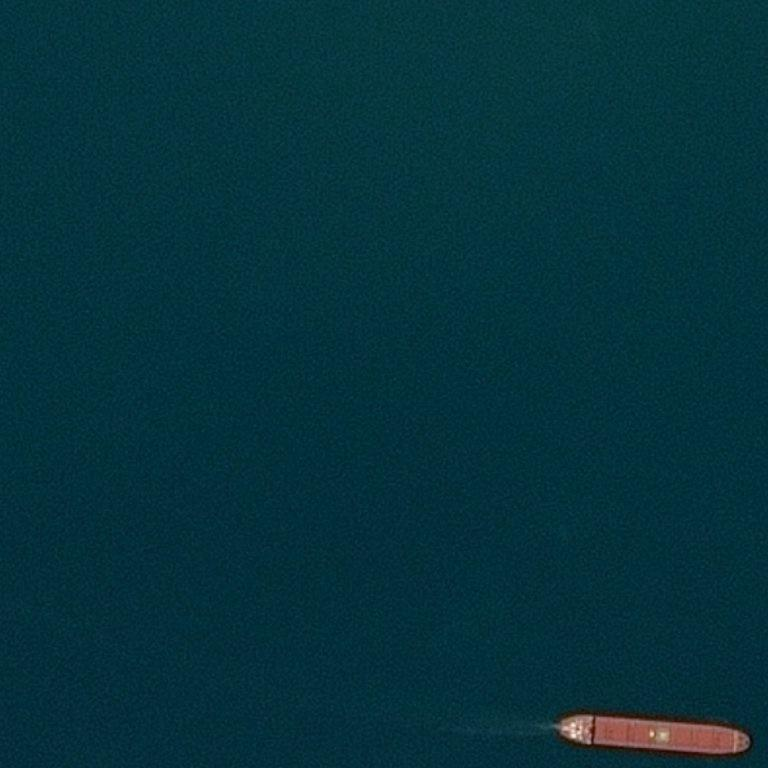ship: (553, 712, 753, 753), (743, 733, 750, 750), (556, 729, 566, 738), (533, 719, 542, 726)
